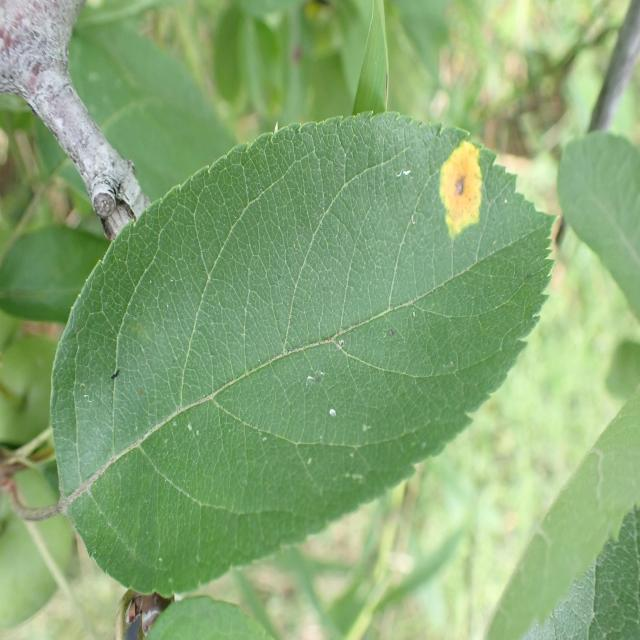Rust: (428, 120, 497, 262)
